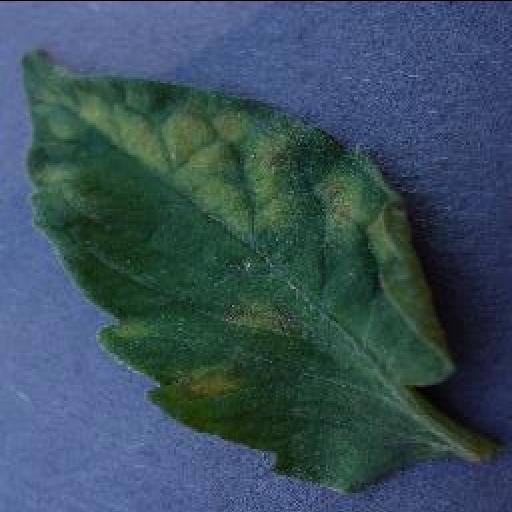disease_tomato: (19, 46, 453, 488)
